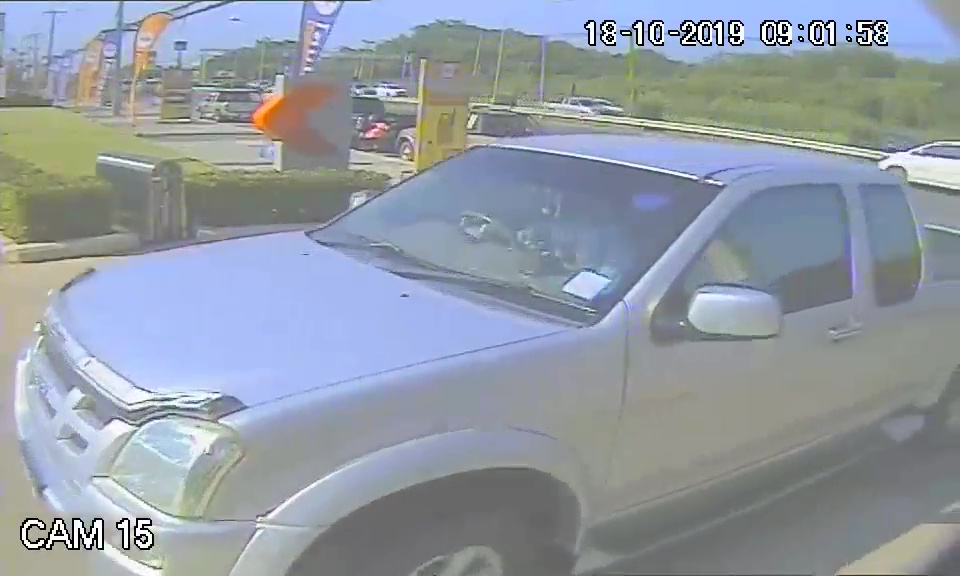pickup: (11, 125, 926, 532)
